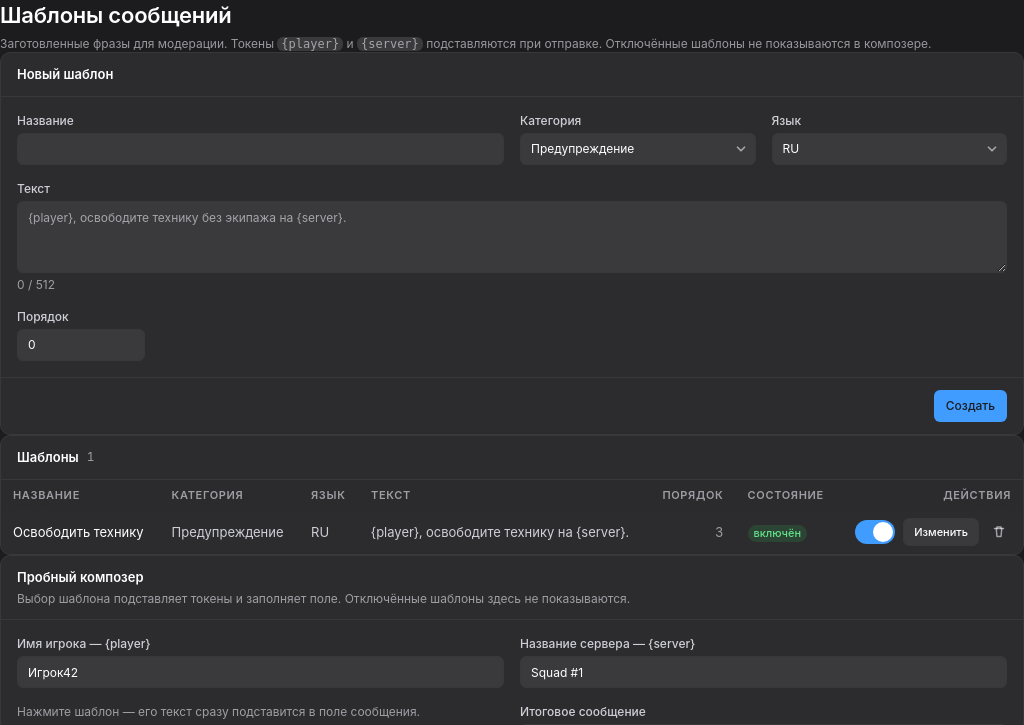
it: MessageTemplatesPage › keeps the template when the delete confirmation is cancelled
Click the button named "Удалить шаблон Освободить технику" at point(999, 532), box [987,520,1011,544]
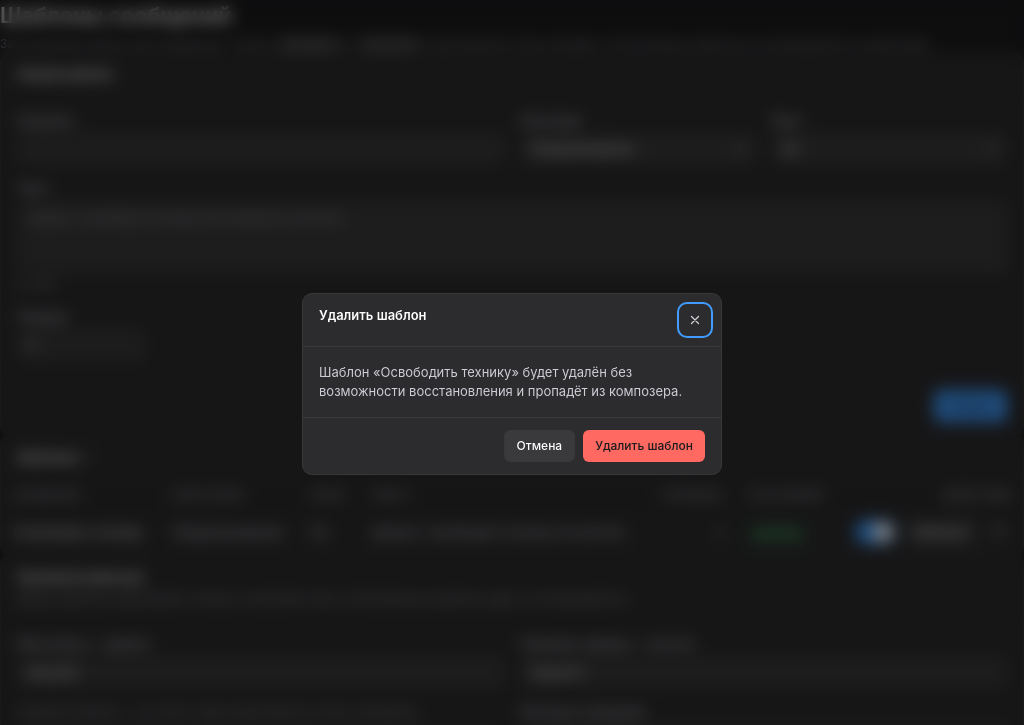
«Отмена» носят и крестик окна, и кнопка подвала — нужна вторая.
Click the button "Отмена" at point(539, 446), box [504,430,575,462]
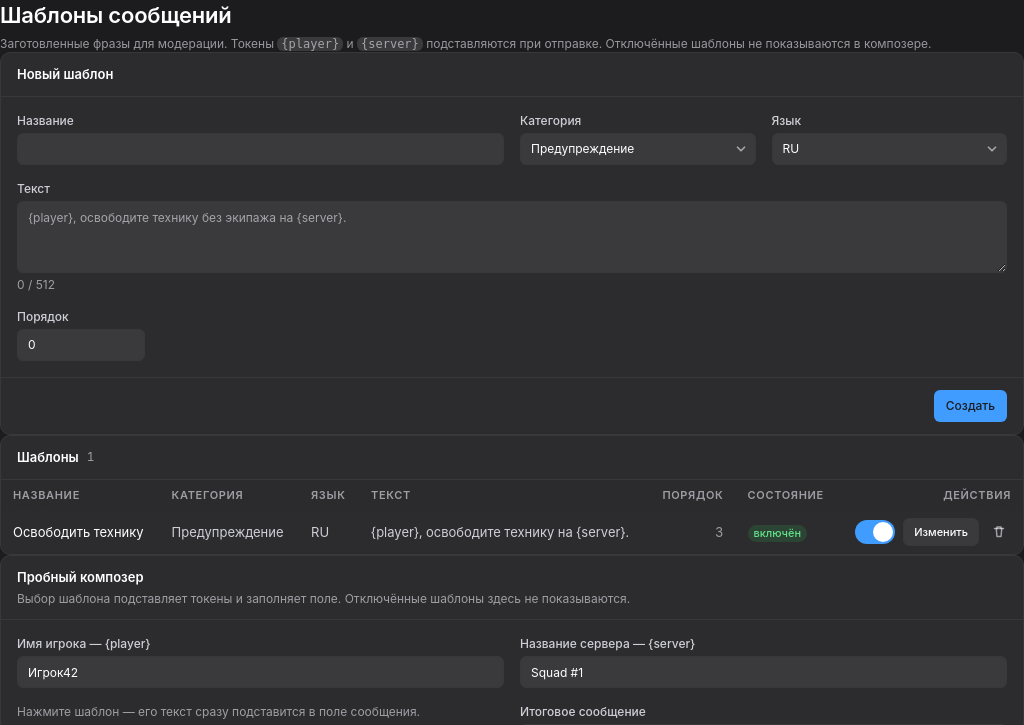
Expected: the dialog is gone
